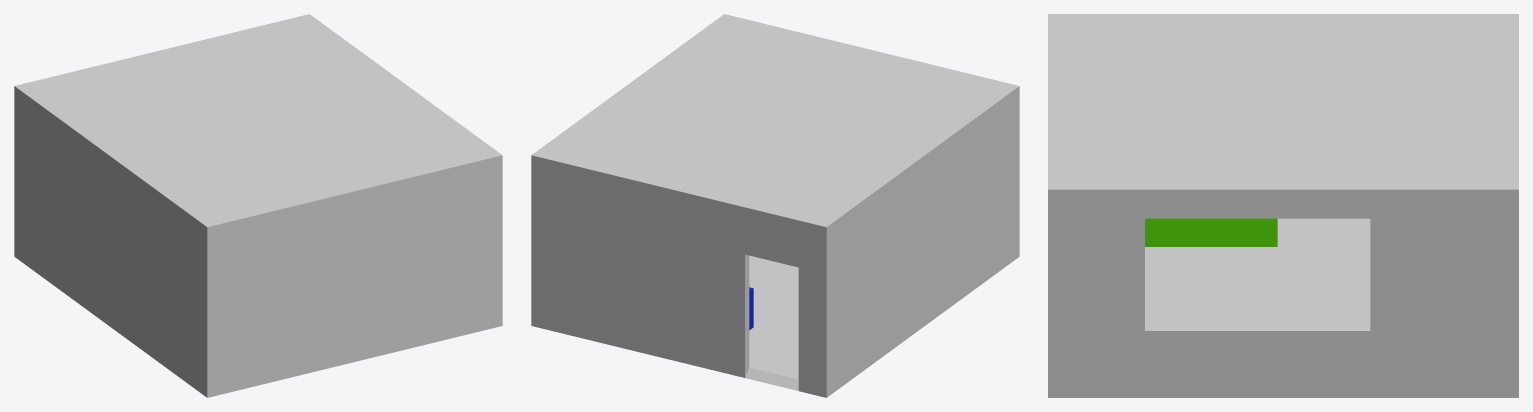
Rendered from room.fbx.
The picture shows the model from 3 angles, left to right: view 1: azimuth 30°, elevation 25°; view 2: azimuth 150°, elevation 25°; view 3: azimuth 270°, elevation 25°; orthographic projection. The views are drawn at different scales.
Parts seen in each view (by area): view 1: Cube; view 2: Cube; view 3: Cube, Cube.003.
Part boxes in pixels (box(x1,y1,x2,y2)): Cube: box(14, 14, 502, 397); Cube: box(531, 14, 1019, 397); Cube: box(1048, 14, 1518, 397); Cube.003: box(1145, 218, 1277, 246).
Size of the model in its own units: 2.86 by 1.58 by 3.24.
